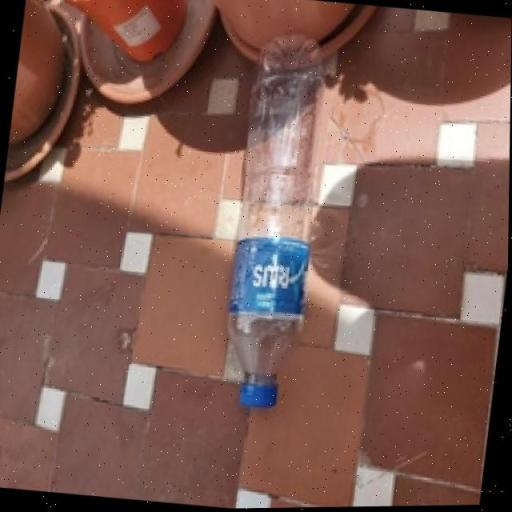plastic: (226, 30, 325, 406)
